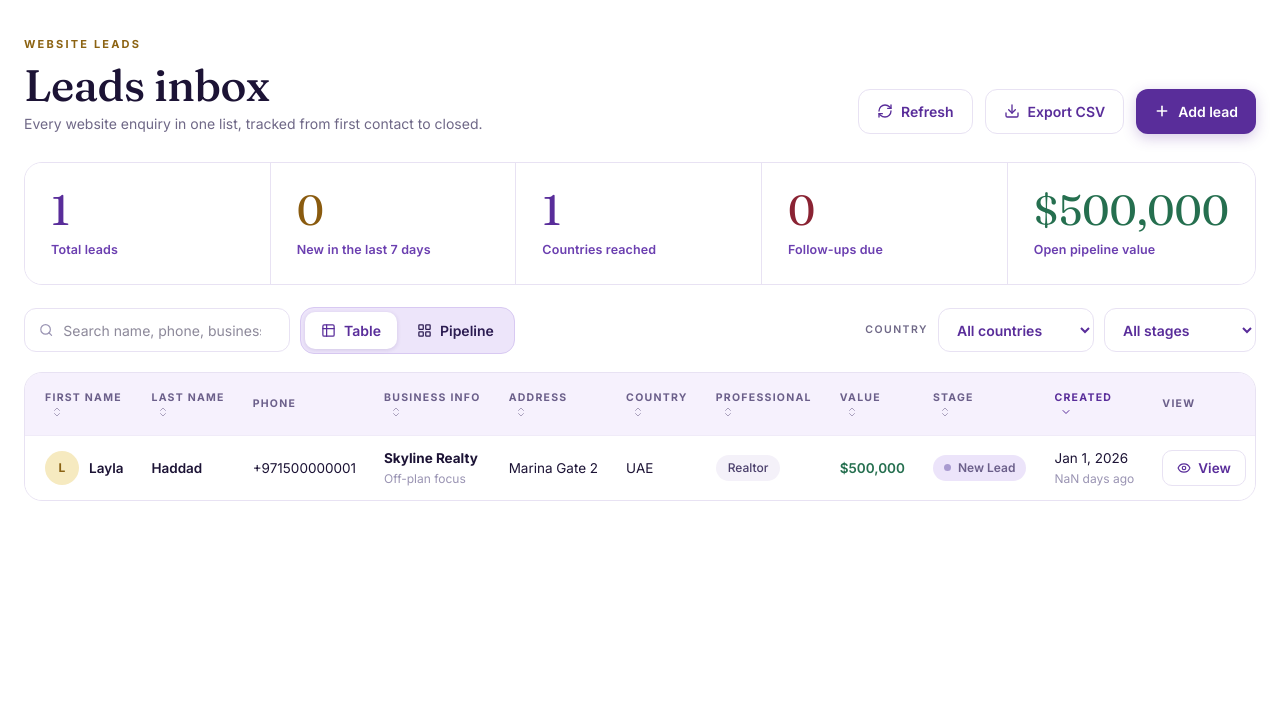
Scenario: leads toolbar › surfaces a failed sync instead of silently doing nothing
The width and height of the screenshot is (1280, 720).
Click the button "Pipeline" at (455, 330), box [401,312,510,349]
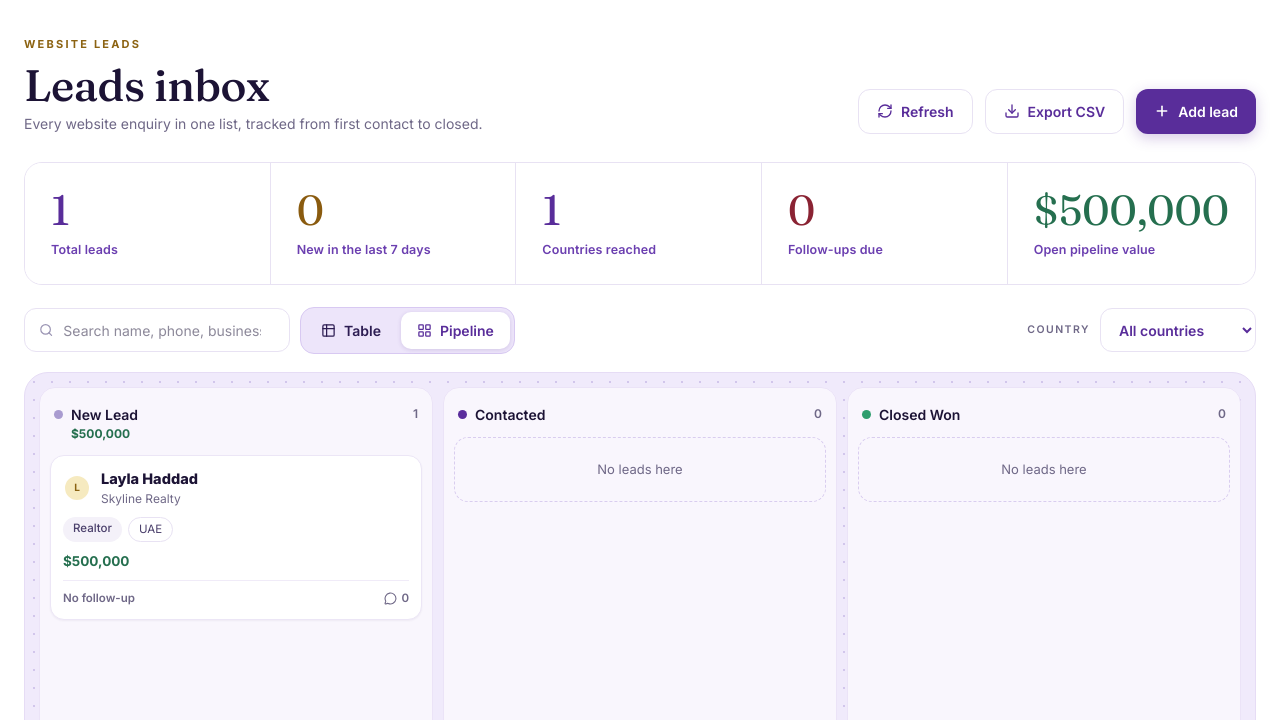
Click the button "Refresh" at (915, 111), box [858,89,973,134]
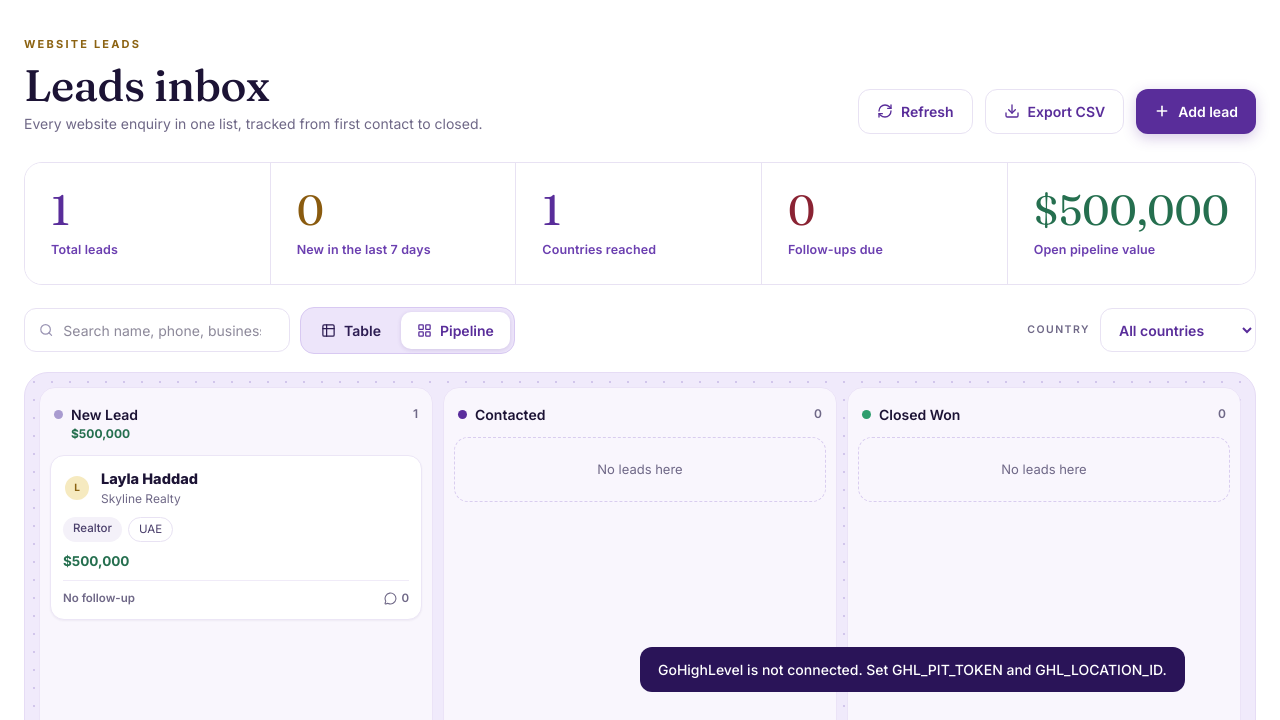
Result: the text "GoHighLevel is not connected. Set GHL_PIT_TOKEN and GHL_LOCATION_ID." is shown at [640,647,1185,692]
